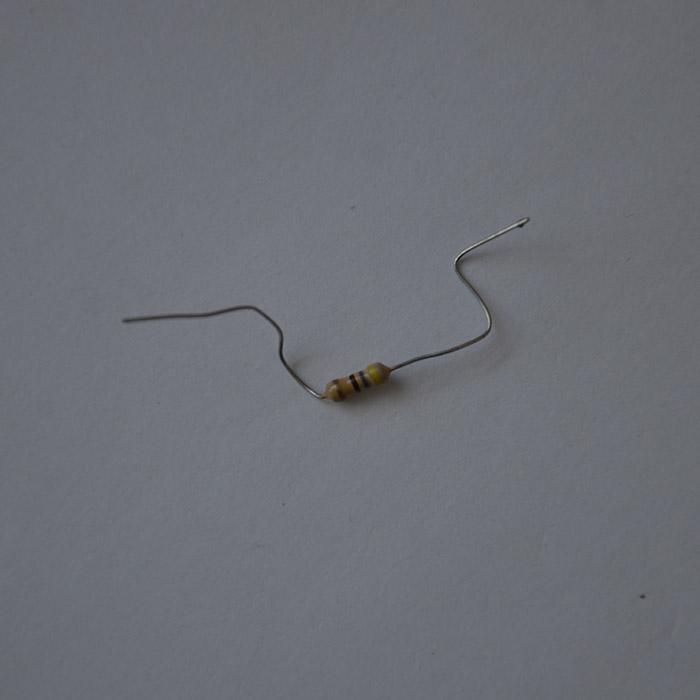resistor: (325, 361, 392, 401)
